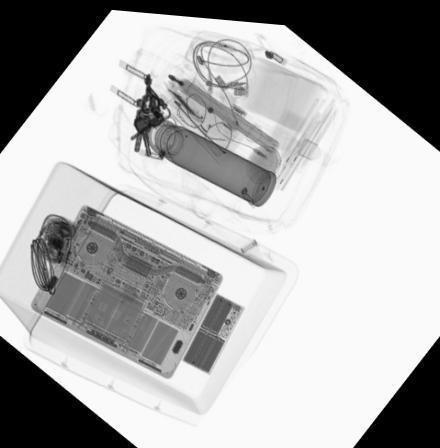Powerbank: (182, 289, 244, 371)
